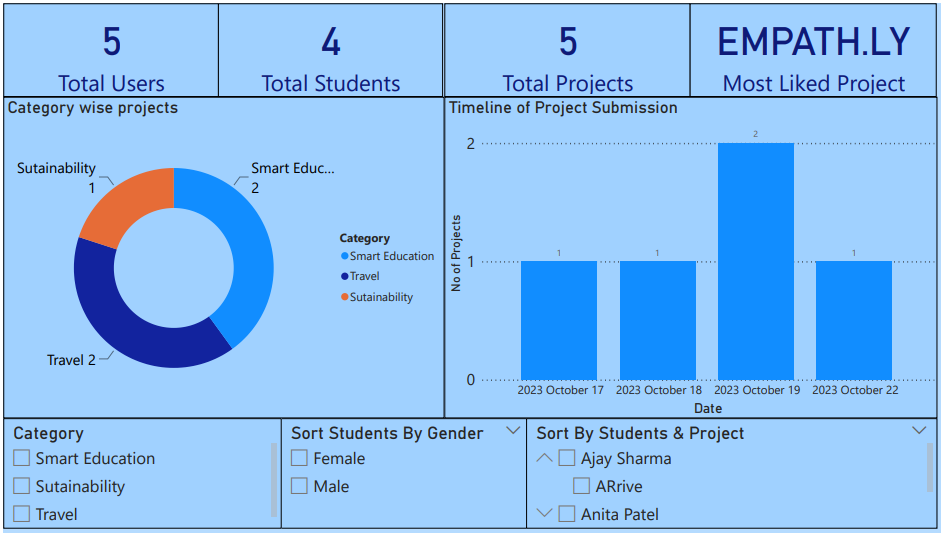

Layout of this report page (visuals, bound fields, positions):
{"tool":"powerbi","page":{"name":"Page 1","canvas":[1280,720],"ordinal":0},"visuals":[{"type":"card","fields":{"Values":["CountNonNull(EduMitra users._id.$oid)"]},"box":[0,0,294.8,127.6],"z":0},{"type":"card","fields":{"Values":["CountNonNull(EduMitra users._id.$oid)"]},"box":[294.8,0,309,127.6],"z":1000},{"type":"card","fields":{"Values":["CountNonNull(EduMitra projects._id.$oid)"]},"box":[603.8,0,337.3,127.6],"z":3000},{"type":"donutChart","title":"Category wise projects","fields":{"Category":["EduMitra projects.Category"],"Y":["CountNonNull(EduMitra projects._id.$oid)"]},"box":[0,127.9,603.8,440.4],"z":4000},{"type":"clusteredColumnChart","title":"Timeline of Project Submission","fields":{"Category":["EduMitra projects.createdAt.$date.Variation.Date Hierarchy.Year","EduMitra projects.createdAt.$date.Variation.Date Hierarchy.Month","EduMitra projects.createdAt.$date.Variation.Date Hierarchy.Day"],"Y":["CountNonNull(EduMitra projects._id.$oid)"]},"box":[603.8,127.9,674.8,440.4],"z":5000},{"type":"slicer","fields":{"Values":["EduMitra users.gender"]},"box":[381.3,568.3,391.2,150.2],"z":7000},{"type":"slicer","fields":{"Values":["EduMitra projects.Category"]},"box":[0,567.8,380.8,151.3],"z":7001},{"type":"card","fields":{"Values":["EduMitra projects.ProjectNameWithMaxLikes"]},"box":[940.5,0,338.1,127.9],"z":7003},{"type":"slicer","fields":{"Values":["EduMitra projects.creatorInfo.name","EduMitra projects.pTitle"]},"box":[772.4,568.3,506,150.2],"z":7004}]}

Visuals, with their boxes in screenshot pixels (x1, y1, x2, y2), scaled from the page's 1280x720 canvas onto the 941x533 screenshot:
card - CountNonNull(EduMitra users._id.$oid): x1=0 y1=0 x2=217 y2=94
card - CountNonNull(EduMitra users._id.$oid): x1=217 y1=0 x2=444 y2=94
card - CountNonNull(EduMitra projects._id.$oid): x1=444 y1=0 x2=692 y2=94
"Category wise projects" donutChart: x1=0 y1=95 x2=444 y2=421
"Timeline of Project Submission" clusteredColumnChart: x1=444 y1=95 x2=940 y2=421
slicer - EduMitra users.gender: x1=280 y1=421 x2=568 y2=532
slicer - EduMitra projects.Category: x1=0 y1=420 x2=280 y2=532
card - EduMitra projects.ProjectNameWithMaxLikes: x1=691 y1=0 x2=940 y2=95
slicer - EduMitra projects.creatorInfo.name x EduMitra projects.pTitle: x1=568 y1=421 x2=940 y2=532
